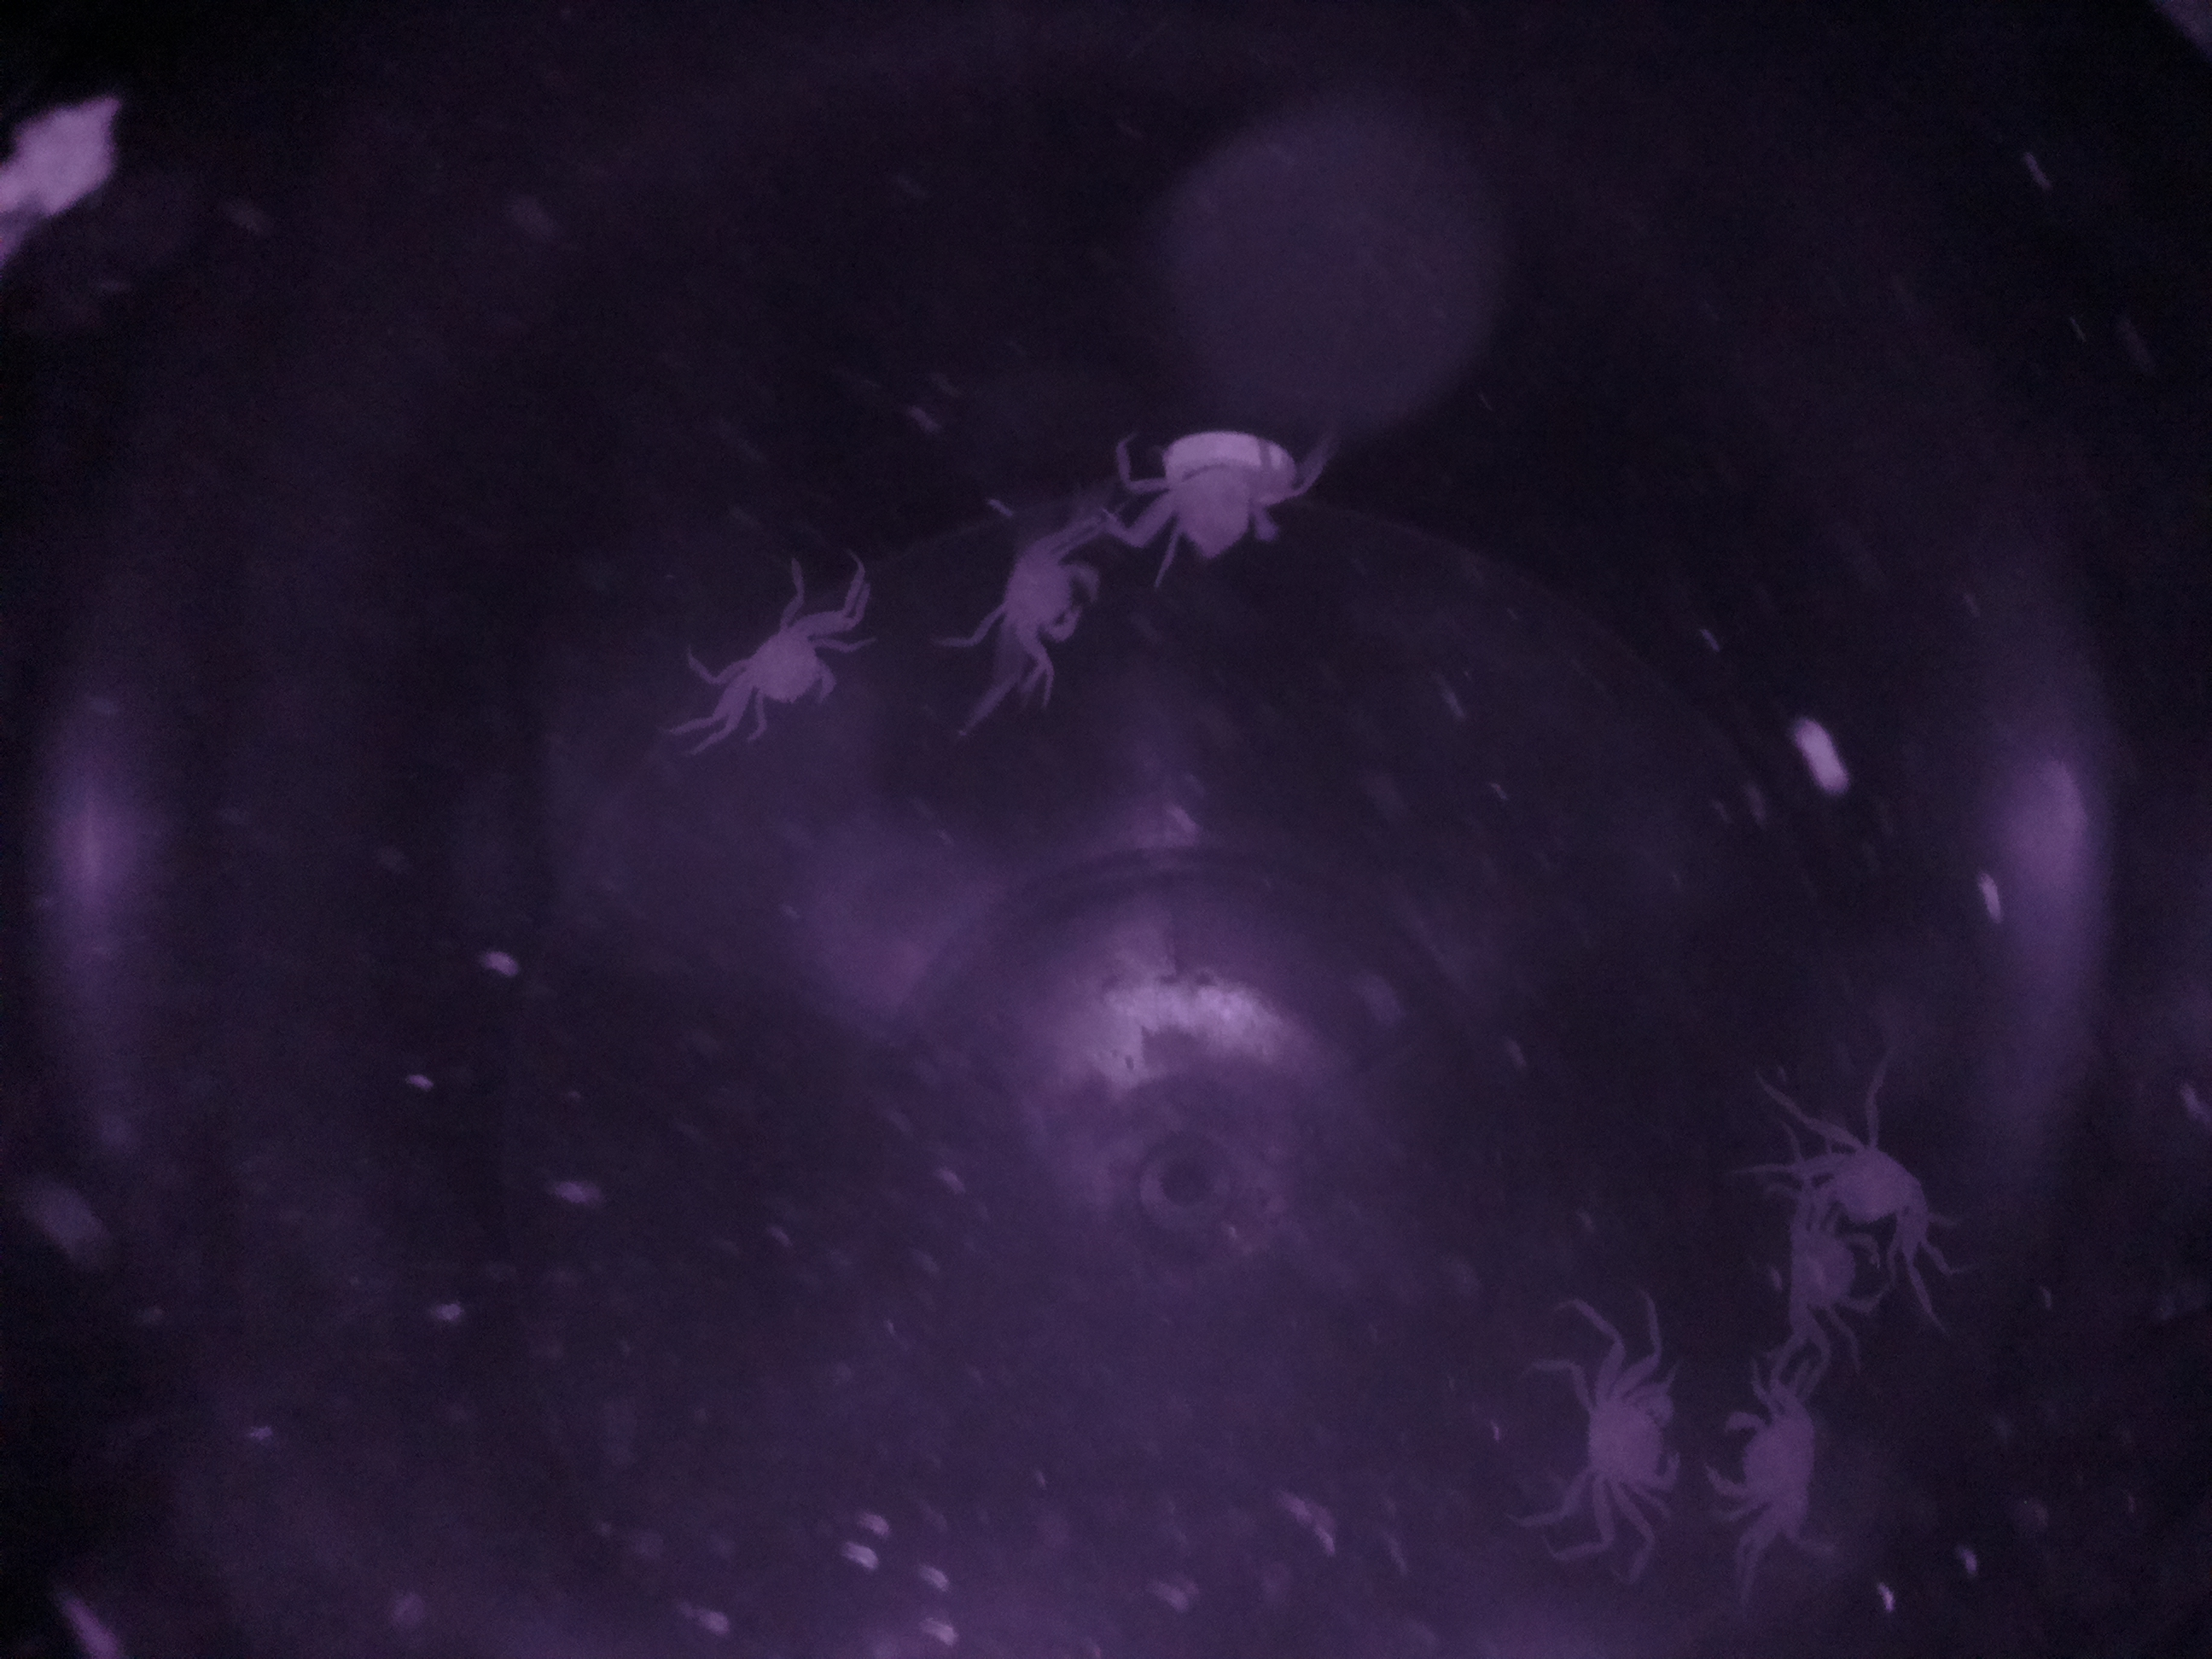Crab: (1554, 1328, 1695, 1554), (1712, 1352, 1827, 1567), (977, 504, 1106, 681), (1120, 451, 1291, 577), (705, 596, 860, 727)
